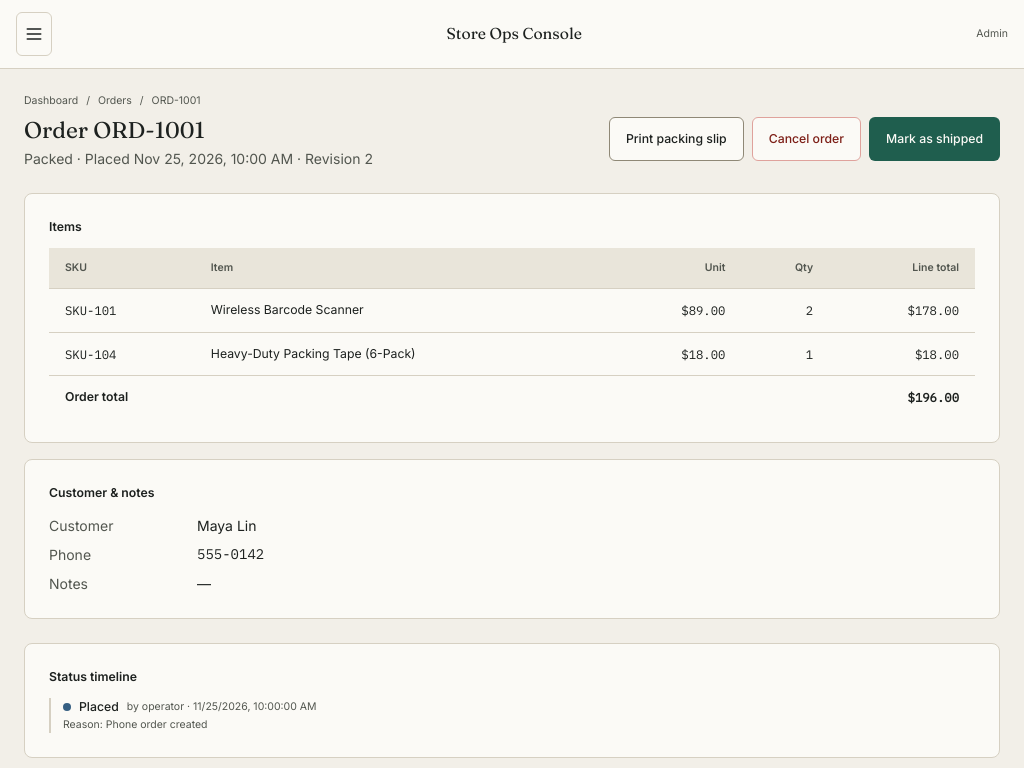
Test: Store Ops Console UI (React Testing Library) › requires confirmation dialog for Ship and mandatory reason dialog for Cancel
The width and height of the screenshot is (1024, 768).
Later steps or results of the test are not shown.
Click the button "Mark as shipped" at (934, 139), box [869, 117, 1000, 161]
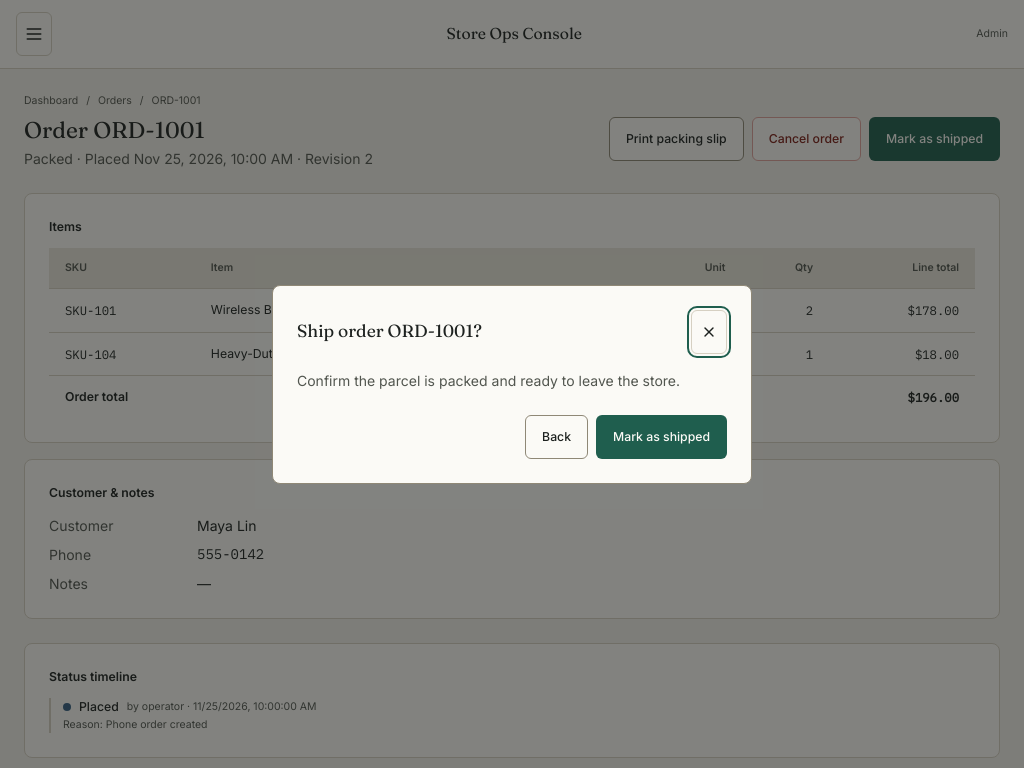
Expected: the dialog shows "Ship order ORD-1001?", [297, 320, 482, 341]
Click the button "Back" at (557, 436), box [525, 414, 588, 458]
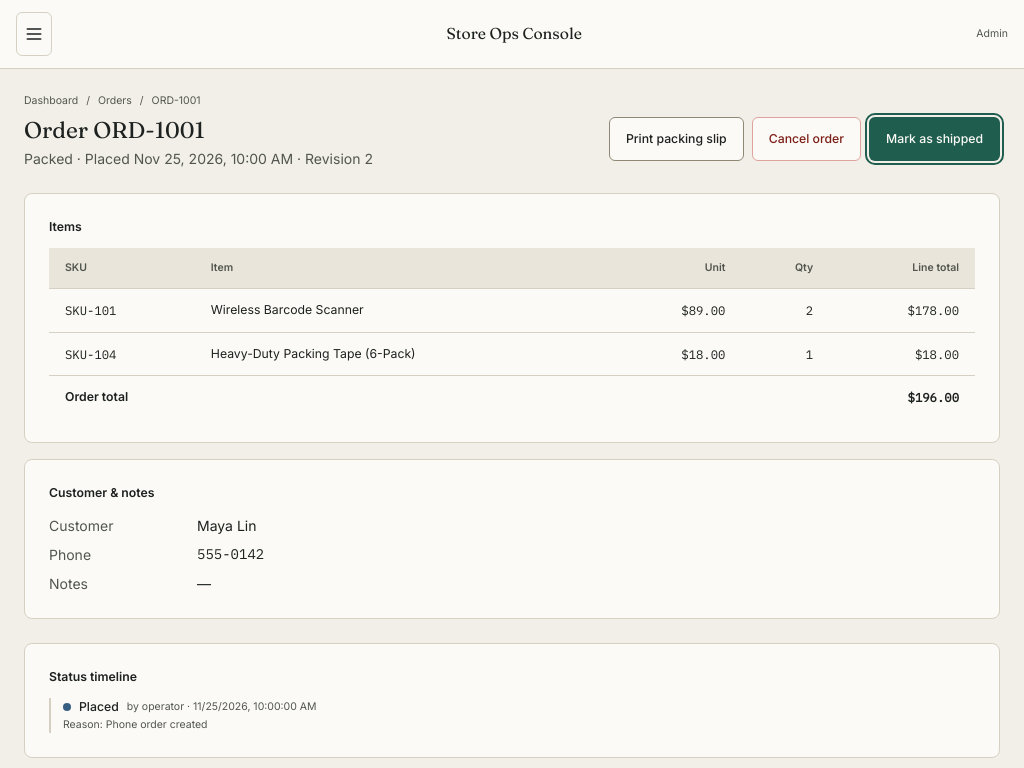
Click the button "Cancel order" at (806, 139), box [752, 117, 861, 161]
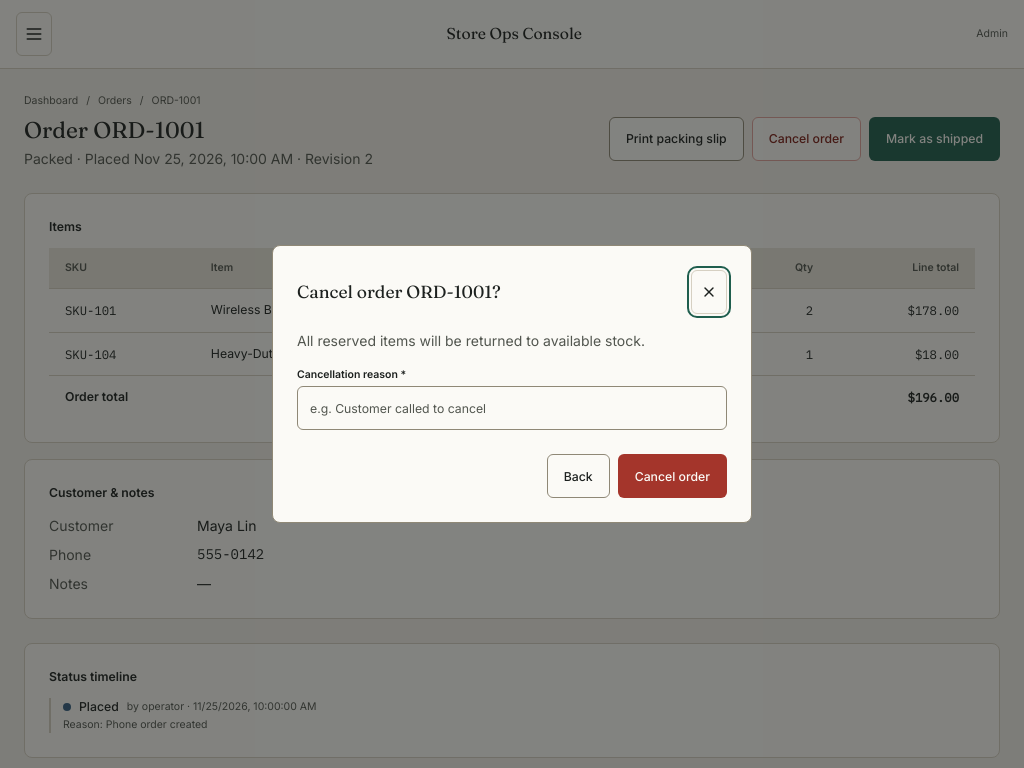
Expected: the dialog shows "Cancel order ORD-1001?", [297, 280, 501, 302]
Type "hi" into the field labelled "Cancellation reason *" at (512, 408), box [297, 386, 727, 430]
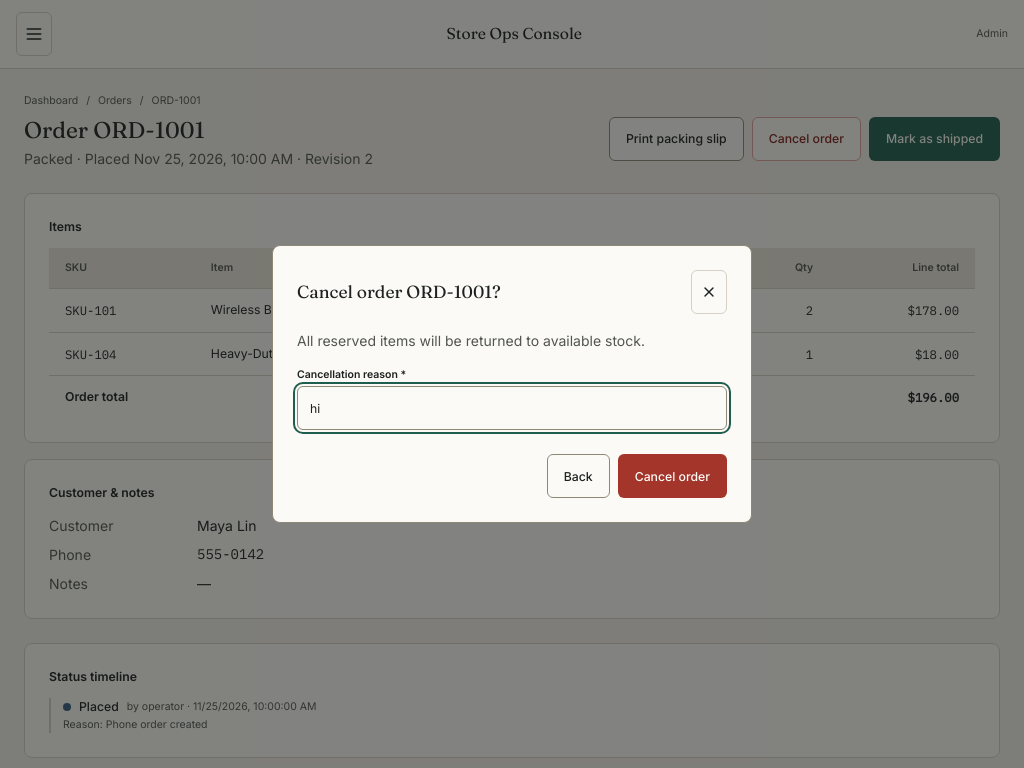
Click the button "Cancel order" at (672, 476), box [618, 454, 727, 498]
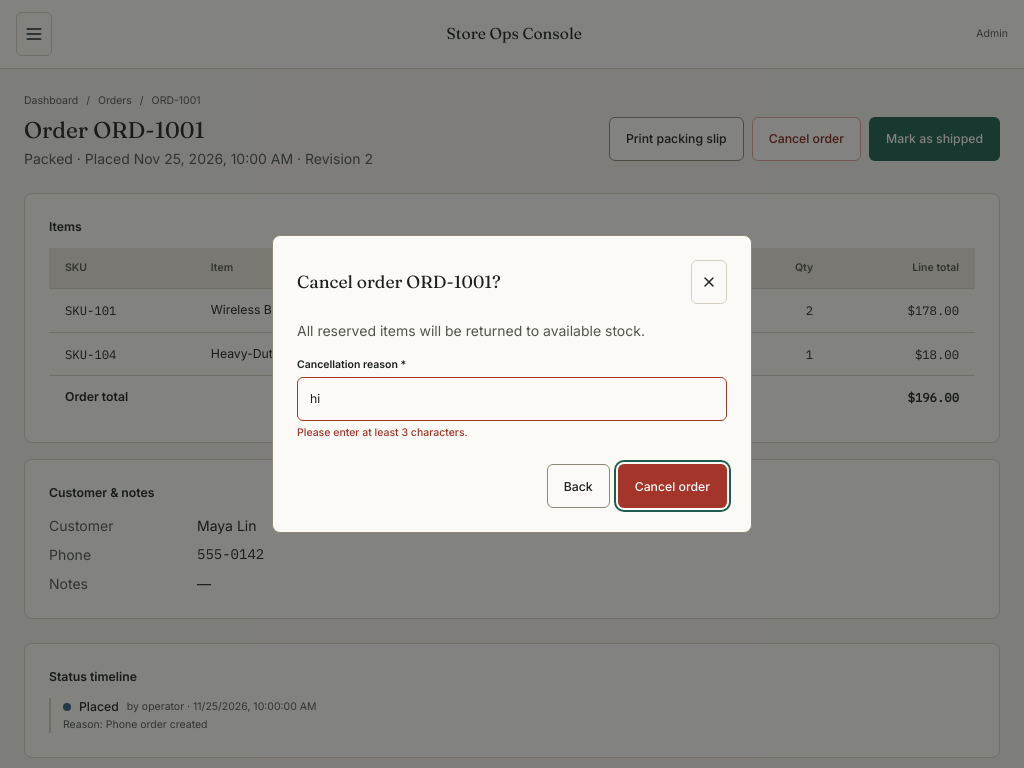
Expected: the text "Please enter at least 3 characters." is shown, [297, 426, 468, 438]
